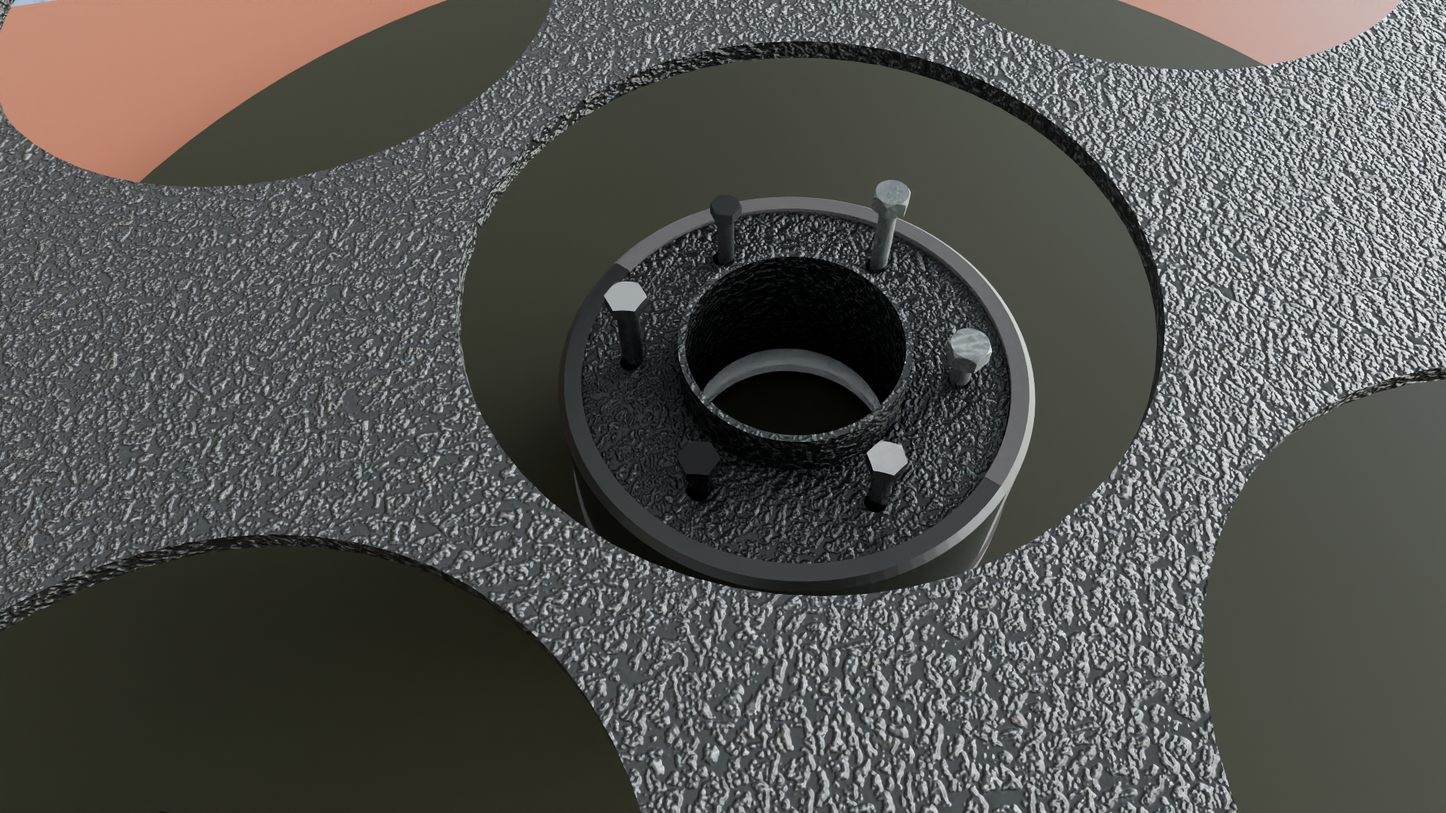bolt: (947, 328, 992, 364), (677, 441, 720, 475), (867, 440, 908, 475), (604, 282, 647, 312), (873, 180, 911, 209), (710, 195, 742, 217)
